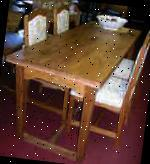Mesa: (0, 12, 144, 163)
Silla: (65, 20, 149, 144), (9, 8, 81, 119), (45, 6, 99, 77)
